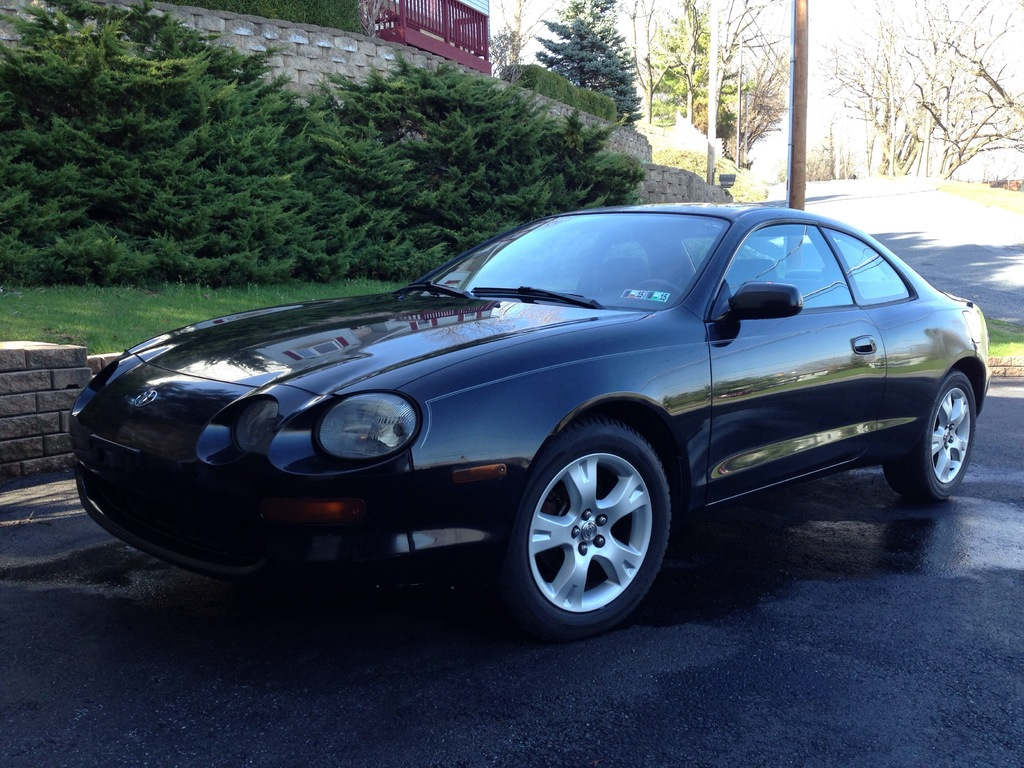mobil: (75, 199, 997, 642)
